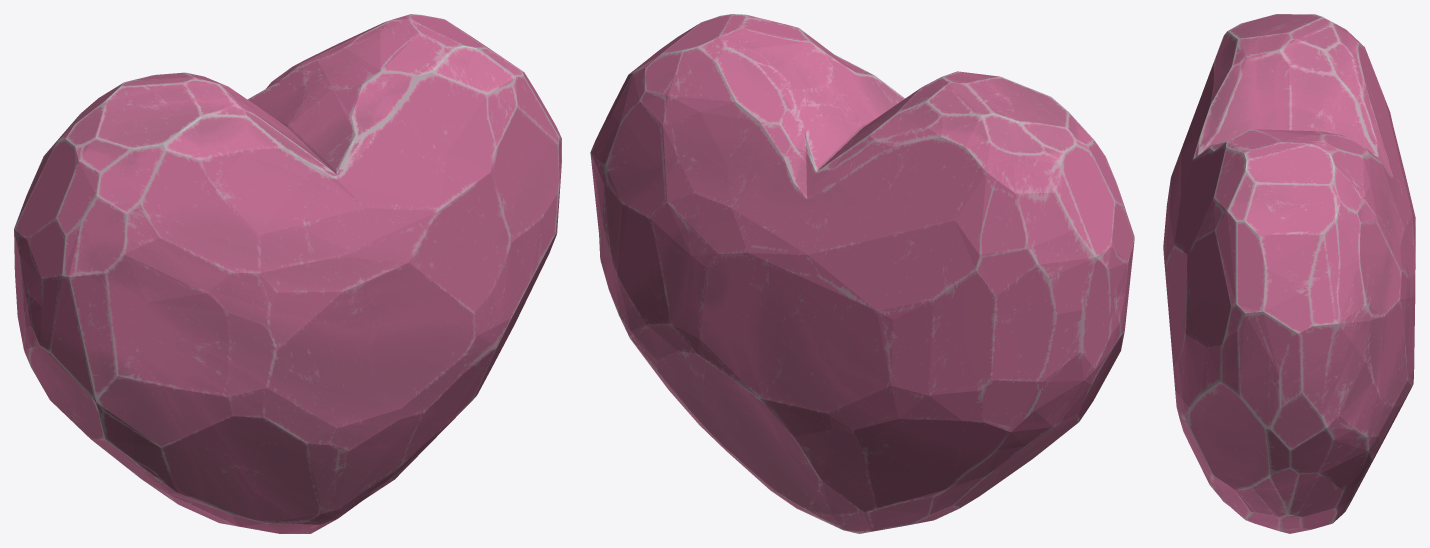
Rendered from Projectile_MG.fbx.
The picture shows the model from 3 angles, left to right: view 1: azimuth 30°, elevation 25°; view 2: azimuth 150°, elevation 25°; view 3: azimuth 270°, elevation 25°; orthographic projection. The views are drawn at different scales.
Parts seen in each view (by area): view 1: Projectile_M; view 2: Projectile_M; view 3: Projectile_M.
Part boxes in pixels (x1=…): Projectile_M: x1=14, y1=14, x2=561, y2=533; Projectile_M: x1=590, y1=14, x2=1134, y2=533; Projectile_M: x1=1163, y1=14, x2=1415, y2=533.
Size of the model in its own units: 32.45 by 28.01 by 14.52.
